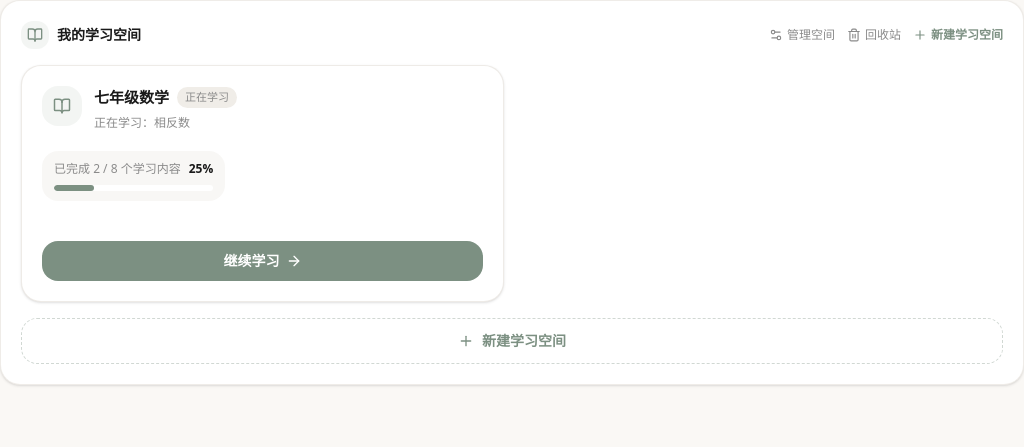
Scenario: learning home protected features › shows destructive space actions only while management mode is active
Click the button "管理空间".
click(802, 35)  # box [769,27,835,43]
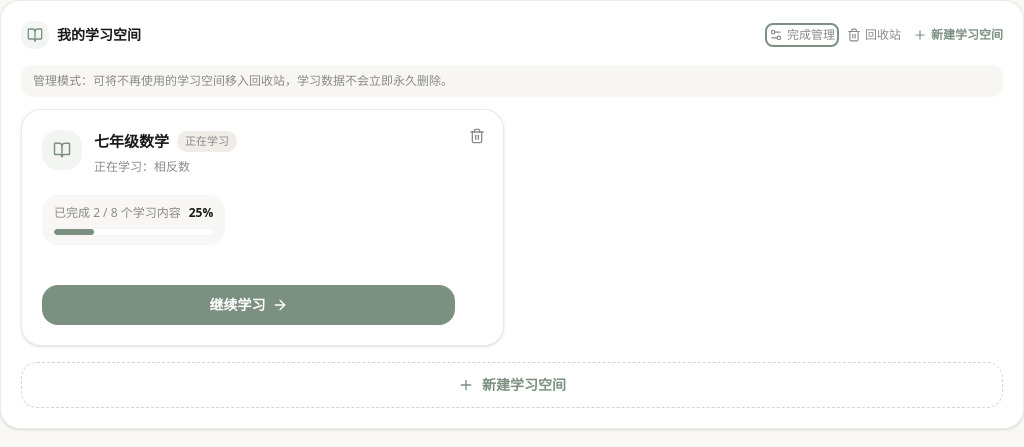
Result: the button named "删除学习空间" is shown at [463,122,491,150]
Result: the button "完成管理" is shown at [769,27,835,43]
